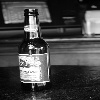beer: (17, 5, 55, 92)
